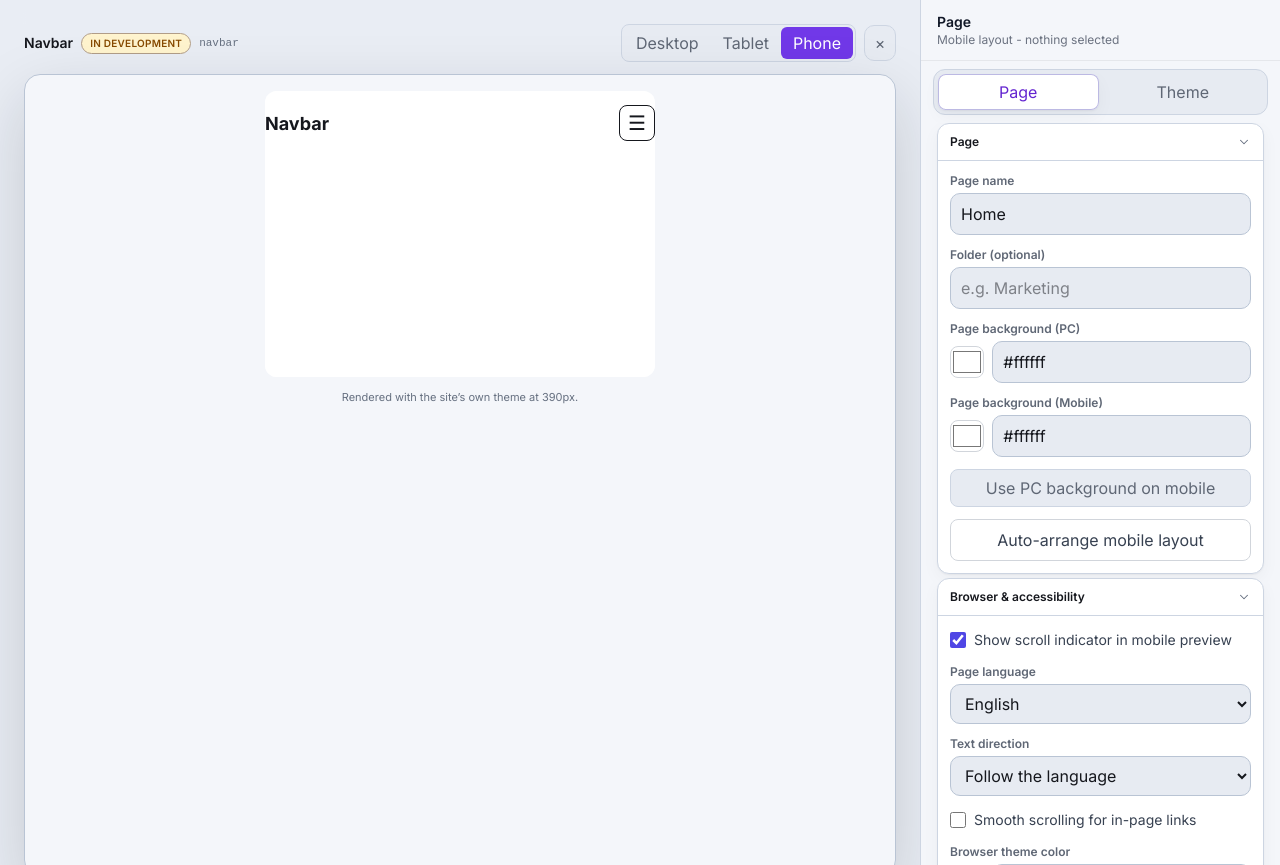
the width picked in the spotlight decides the breakpoint › leaves room for the phone menu to open inside the preview
Step 1. Click the button named "navigation menu" → {"x": 637, "y": 123}, box [619, 105, 655, 141]
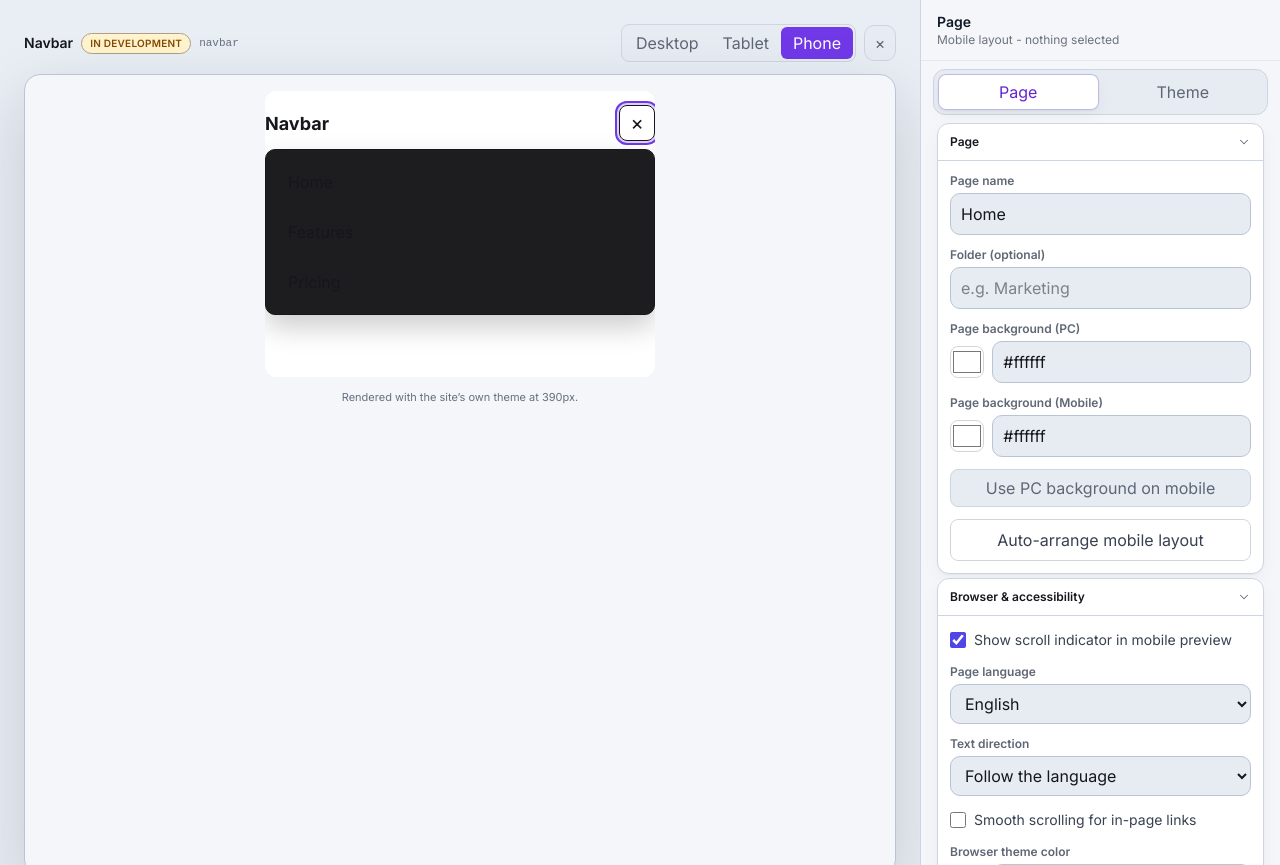
Now the button named "navigation menu" is expanded, box [619, 105, 655, 141]
